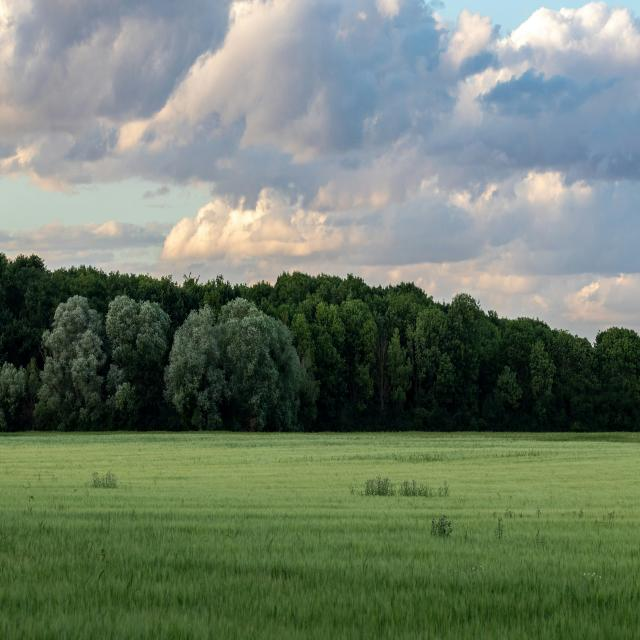Forest: (1, 0, 640, 640)
